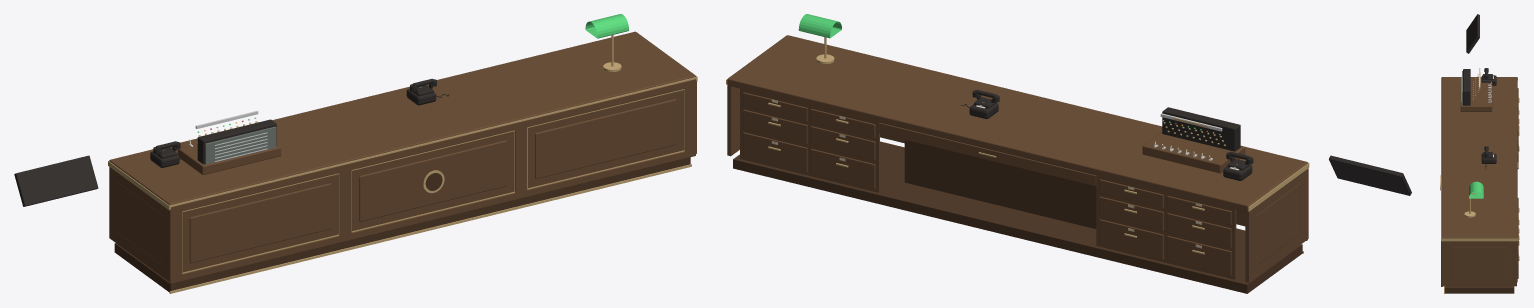
Rendered from cc_duty_desk.glb.
3 renders of one model, left to right at view 1: azimuth 30°, elevation 25°; view 2: azimuth 150°, elevation 25°; view 3: azimuth 270°, elevation 25°, orthographic. The views are drawn at different scales.
Parts seen in each view (by area): view 1: dd_walnut, dd_brass, dd_bakelite, dd_walnutDark, dd_steel, dd_chrome, dd_lampG; view 2: dd_walnut, dd_walnutDark, dd_bakelite, dd_brass, dd_lampG; view 3: dd_walnut, dd_bakelite, dd_brass, dd_walnutDark, dd_lampG, dd_chrome, dd_ivory.
Boxes of the visible parts, x1,y1,x2,y2 form: dd_walnut: (109,31,696,283); dd_brass: (108,35,697,293); dd_bakelite: (14,78,449,206); dd_walnutDark: (114,157,690,292); dd_steel: (205,126,276,164); dd_chrome: (189,111,267,161); dd_lampG: (197,14,629,132); dd_walnut: (727,35,1308,282); dd_walnutDark: (733,140,1302,293); dd_bakelite: (960,89,1411,195); dd_brass: (726,37,1309,254); dd_lampG: (798,14,1220,135); dd_walnut: (1441,77,1518,286); dd_bakelite: (1463,14,1496,168); dd_brass: (1440,72,1519,293); dd_walnutDark: (1444,286,1514,293); dd_lampG: (1469,89,1483,198); dd_chrome: (1461,68,1493,155); dd_ivory: (1490,76,1518,256).
Size of the model in its own units: 7.43 by 1.56 by 1.25.
